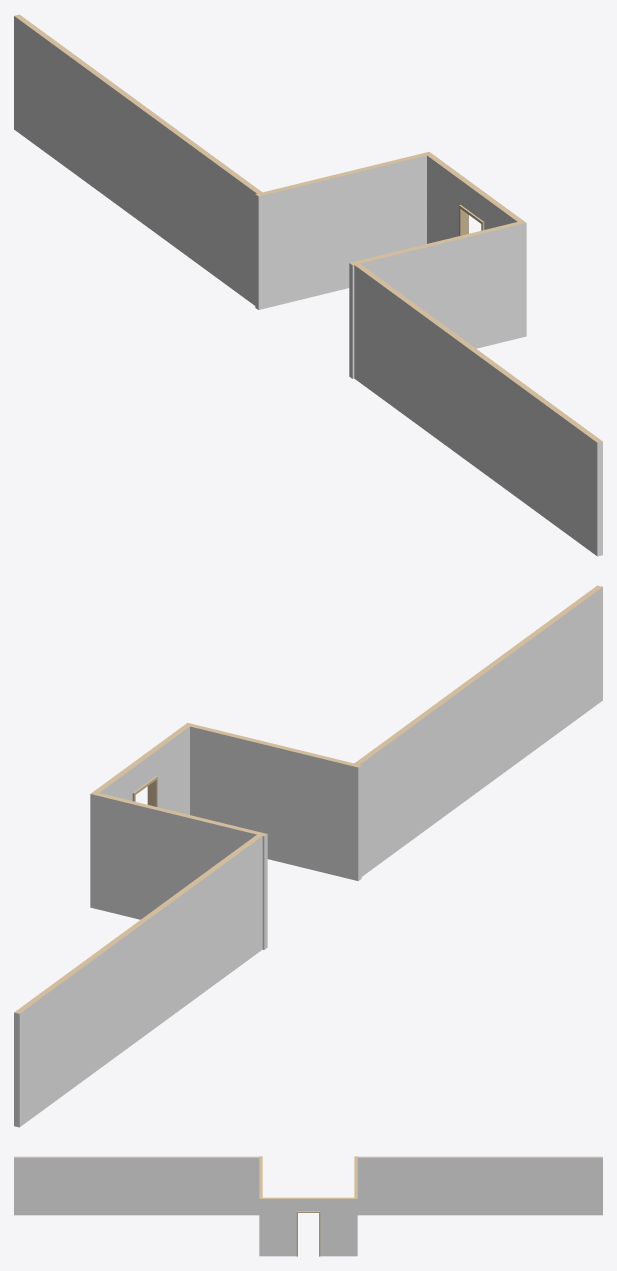
The model's file is frontwall.gltf.
The picture shows the model from 3 angles, top to bottom: view 1: azimuth 30°, elevation 25°; view 2: azimuth 150°, elevation 25°; view 3: azimuth 270°, elevation 25°; orthographic projection. The views are drawn at different scales.
Parts seen in each view (by area): view 1: 壁ベース.014; view 2: 壁ベース.014; view 3: 壁ベース.014.
Part boxes in pixels (<box>): 壁ベース.014: <box>14,14,602,556</box>; 壁ベース.014: <box>14,585,602,1127</box>; 壁ベース.014: <box>14,1156,602,1256</box>.
Bounding box in the file's own units: 1.3 × 0.806 × 7.5.
